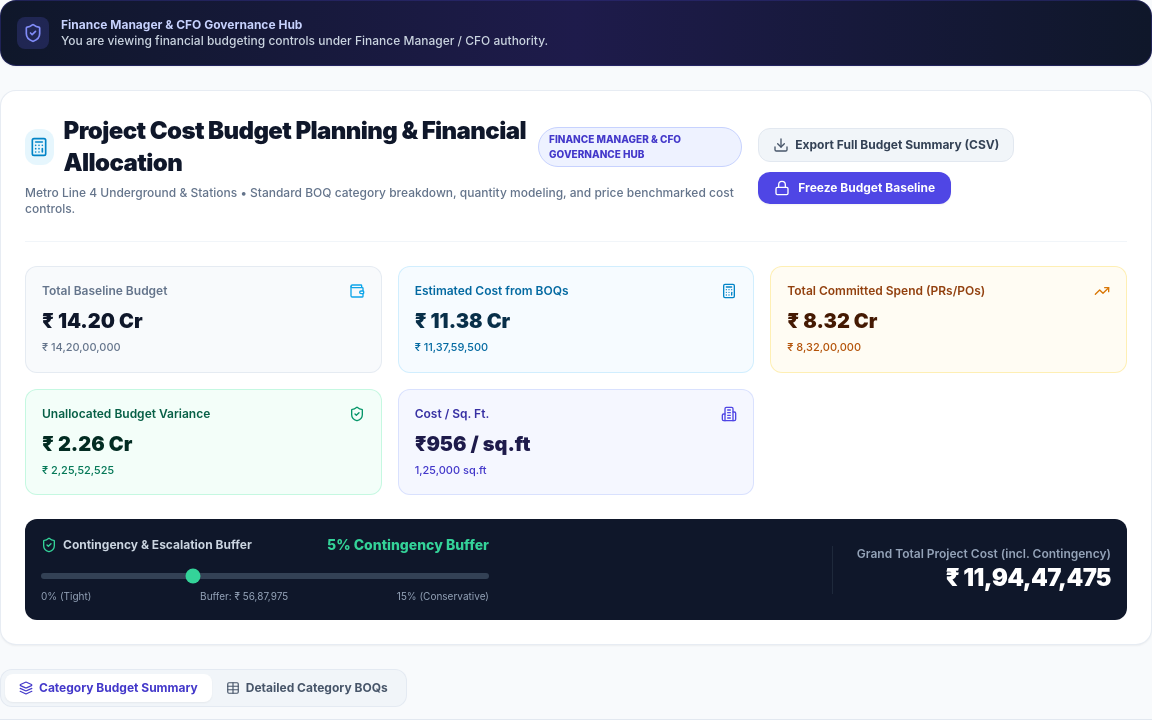
Test: BudgetPlanningModule Component & Budget System › displays price benchmarking pills (AI Benchmark, Rate Card, Market Low)
The width and height of the screenshot is (1152, 720).
Switch to detailed view
Click the button "Detailed Category BOQs" at {"x": 307, "y": 688}, box [212,674,402,702]
(page scrolled)
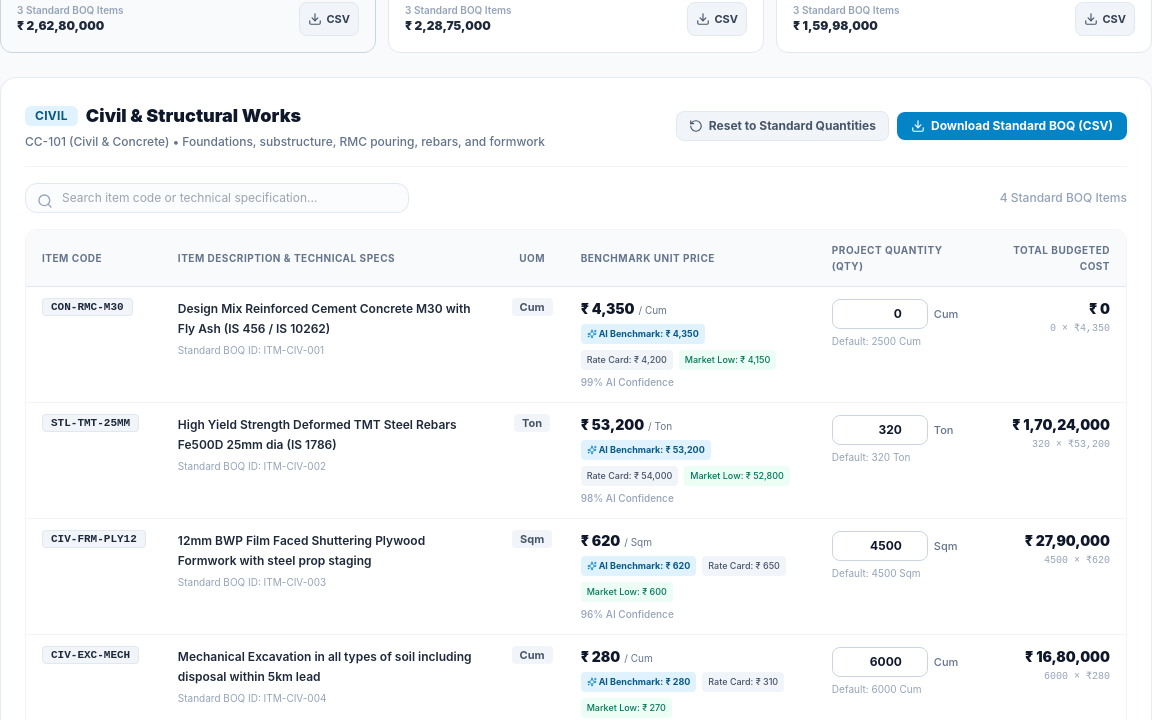
expect the text "AI Benchmark: ₹ 4,350" is shown: met, box [581,324,705,344]
expect the text "Rate Card: ₹ 4,200" is shown: met, box [581,350,673,370]
expect the text "Market Low: ₹ 4,150" is shown: met, box [679,350,776,370]
